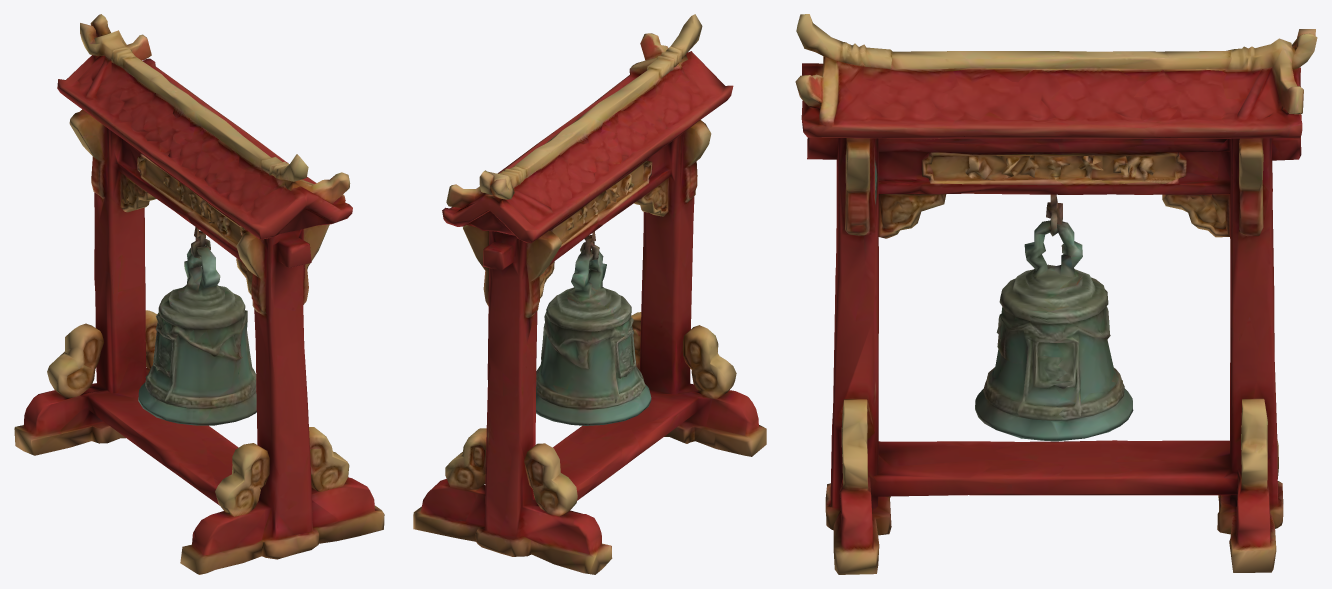
Rendered from bell.glb.
3 renders of one model, left to right at view 1: azimuth 30°, elevation 25°; view 2: azimuth 150°, elevation 25°; view 3: azimuth 270°, elevation 25°, orthographic. The views are drawn at different scales.
Parts seen in each view (by area): view 1: tripo_node_cbe6d2a5-9758-4215-a8e4-a60d0655ff4e; view 2: tripo_node_cbe6d2a5-9758-4215-a8e4-a60d0655ff4e; view 3: tripo_node_cbe6d2a5-9758-4215-a8e4-a60d0655ff4e.
Boxes of the visible parts, <box> form: tripo_node_cbe6d2a5-9758-4215-a8e4-a60d0655ff4e: <box>14,14,384,574</box>; tripo_node_cbe6d2a5-9758-4215-a8e4-a60d0655ff4e: <box>413,14,766,574</box>; tripo_node_cbe6d2a5-9758-4215-a8e4-a60d0655ff4e: <box>795,14,1317,574</box>.
Bounding box in the file's own units: 0.4183 × 0.85 × 0.8015.
1 material, 1 textured.
